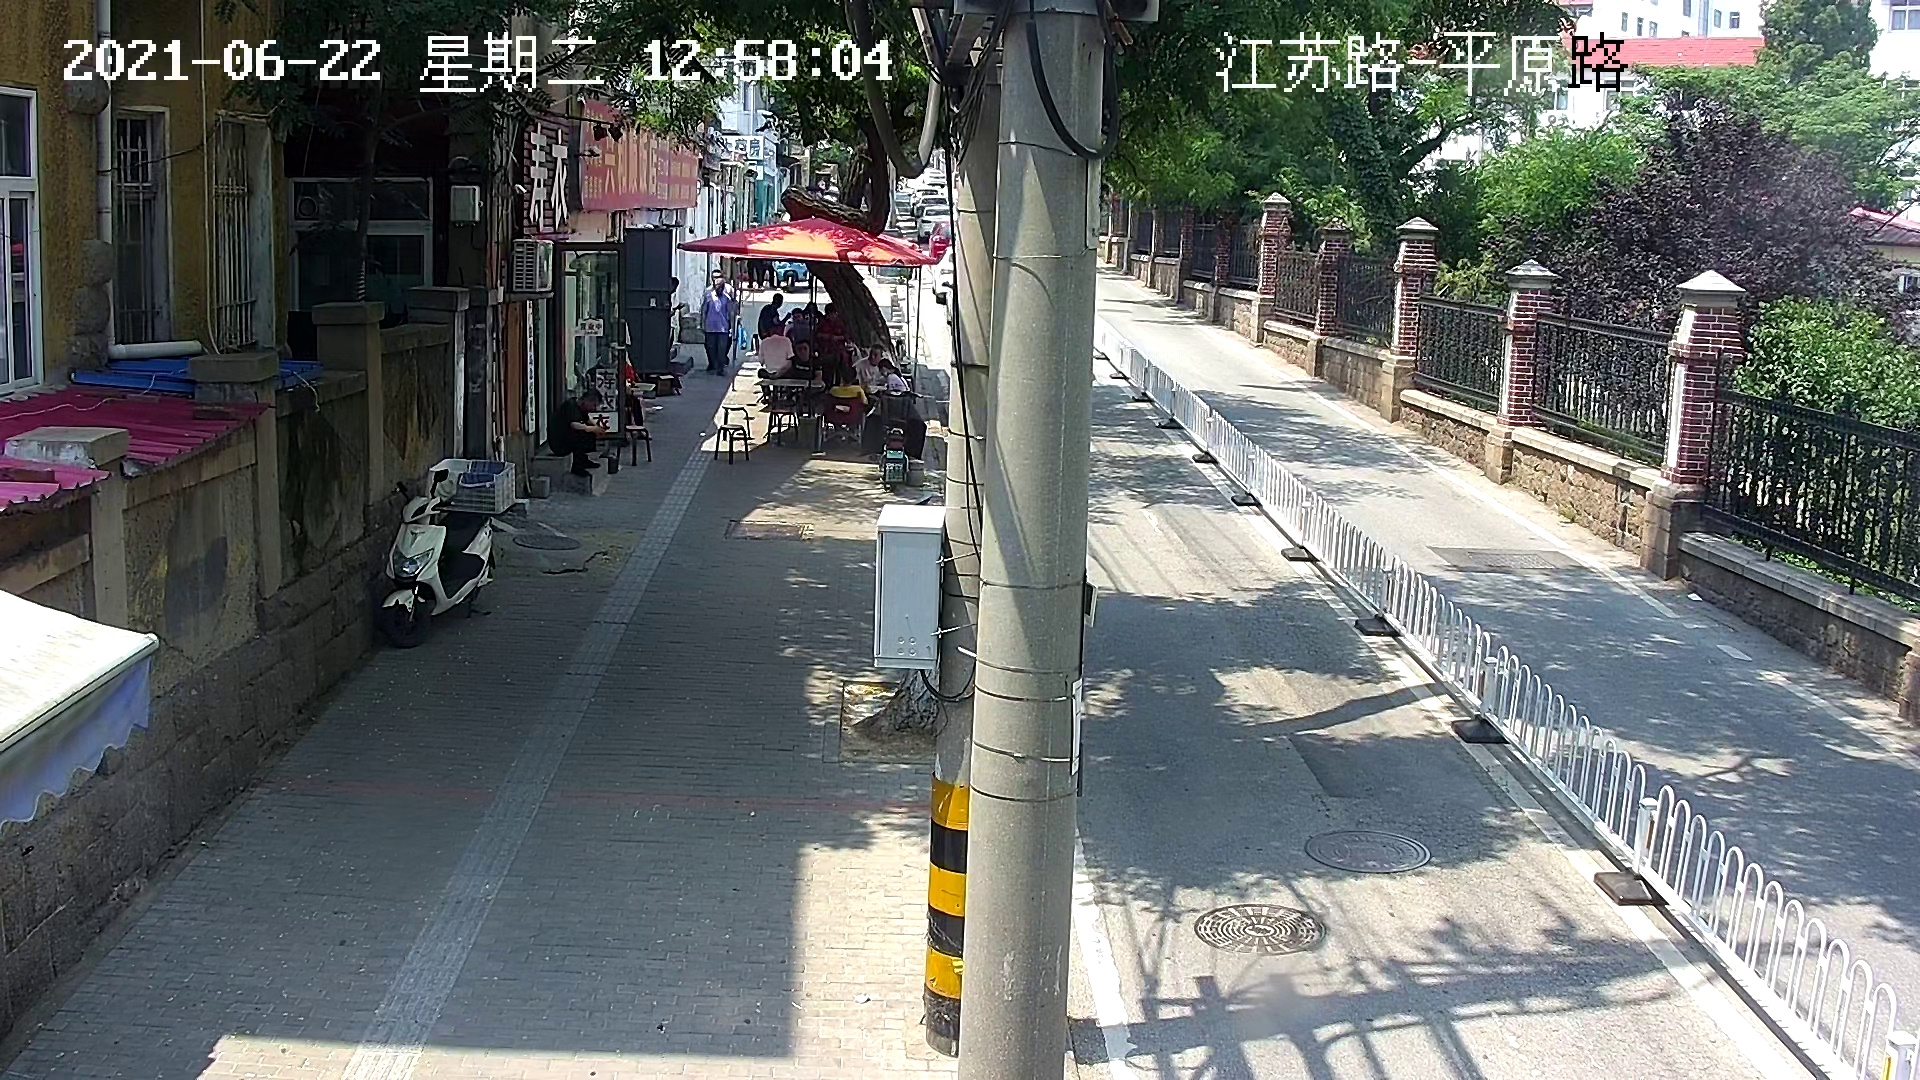chair: (820, 392, 864, 448), (621, 422, 654, 468), (713, 425, 750, 465), (720, 404, 752, 440), (767, 409, 799, 444)
table: (754, 377, 823, 415)
table_chair: (711, 376, 866, 465)
umbrella: (674, 214, 935, 268)
